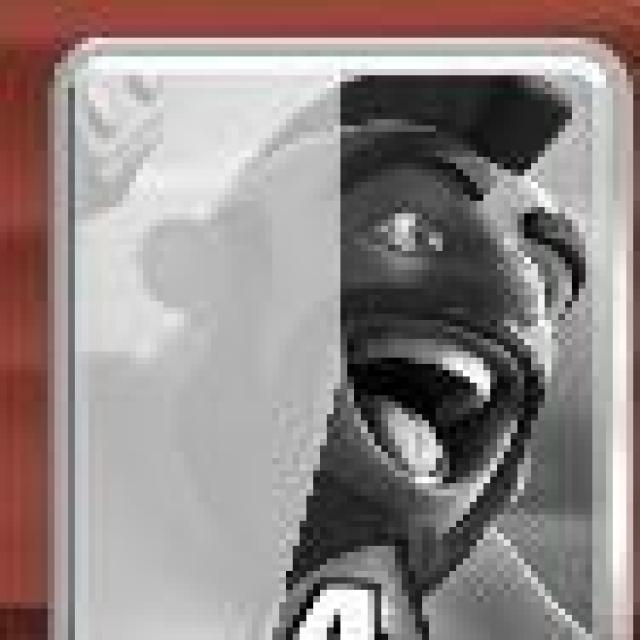Hog_Rider: (48, 37, 633, 640)
